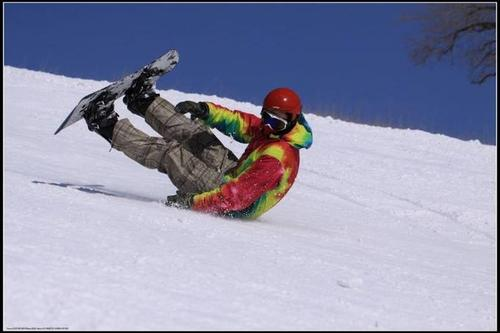fall: (63, 50, 322, 219)
